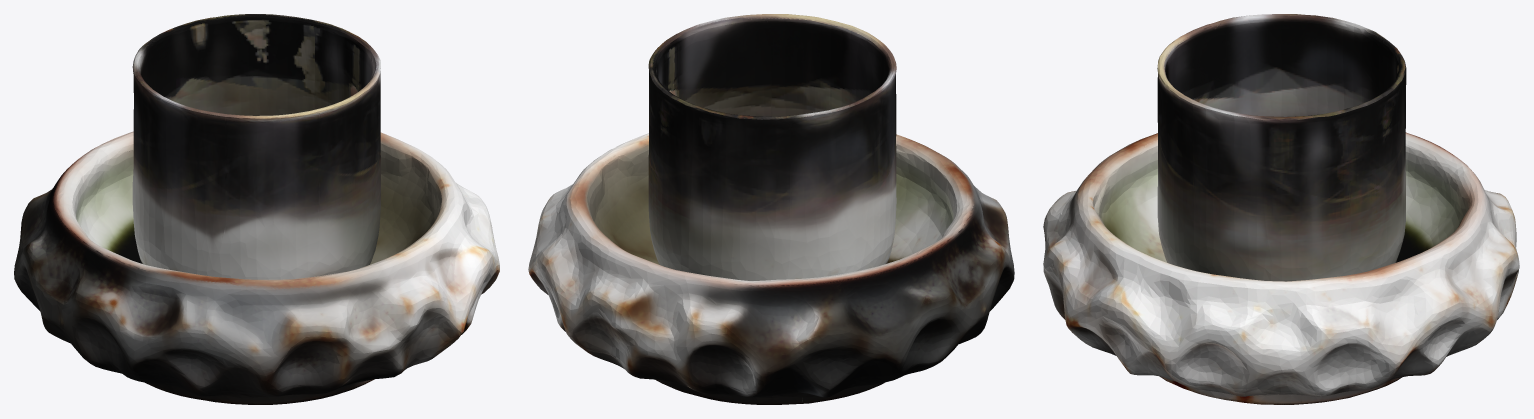
The model's file is porcelain-glass-holder-used-rustic-worn.jpeg.glb.
The picture shows the model from 3 angles, left to right: view 1: azimuth 30°, elevation 25°; view 2: azimuth 150°, elevation 25°; view 3: azimuth 270°, elevation 25°; orthographic projection.
Visible parts, largest first — view 1: world; view 2: world; view 3: world.
Boxes of the visible parts, x1=… form: world: x1=14, y1=14, x2=499, y2=404; world: x1=528, y1=14, x2=1014, y2=404; world: x1=1043, y1=14, x2=1519, y2=404.
Bounding box in the file's own units: 0.9962 × 0.647 × 0.9981.
Materials: 1 (1 with a texture image).
